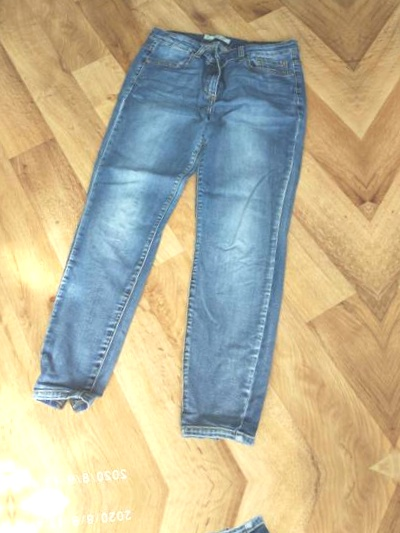Pants: (0, 0, 359, 448), (377, 0, 400, 406), (50, 525, 400, 533)
